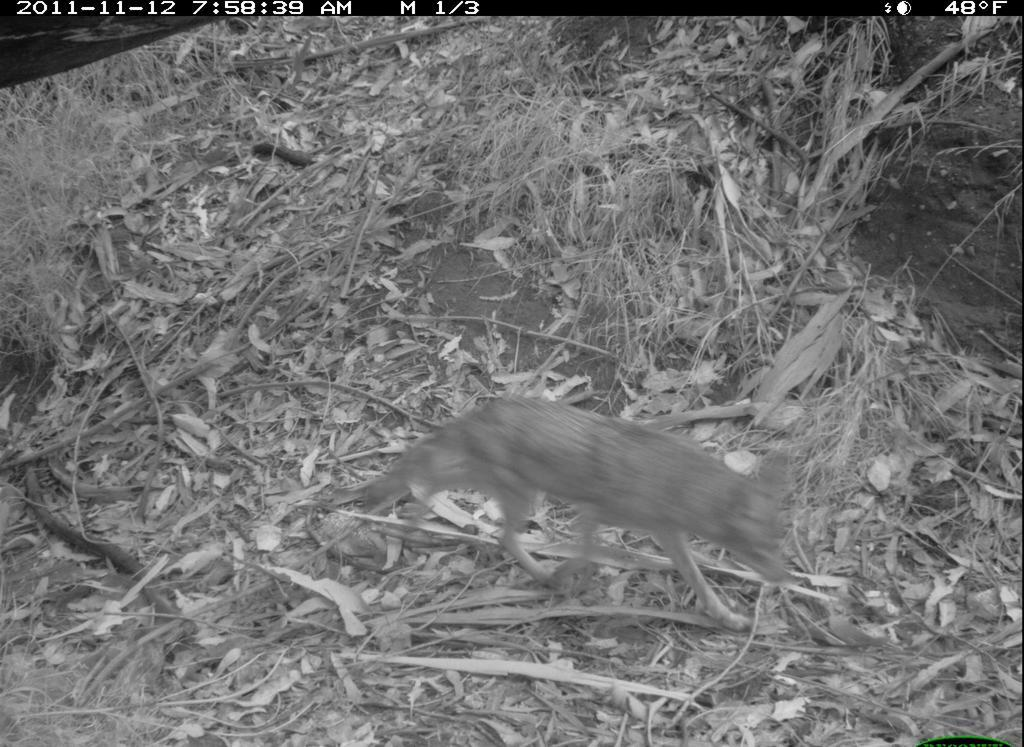coyote: (349, 383, 811, 637)
